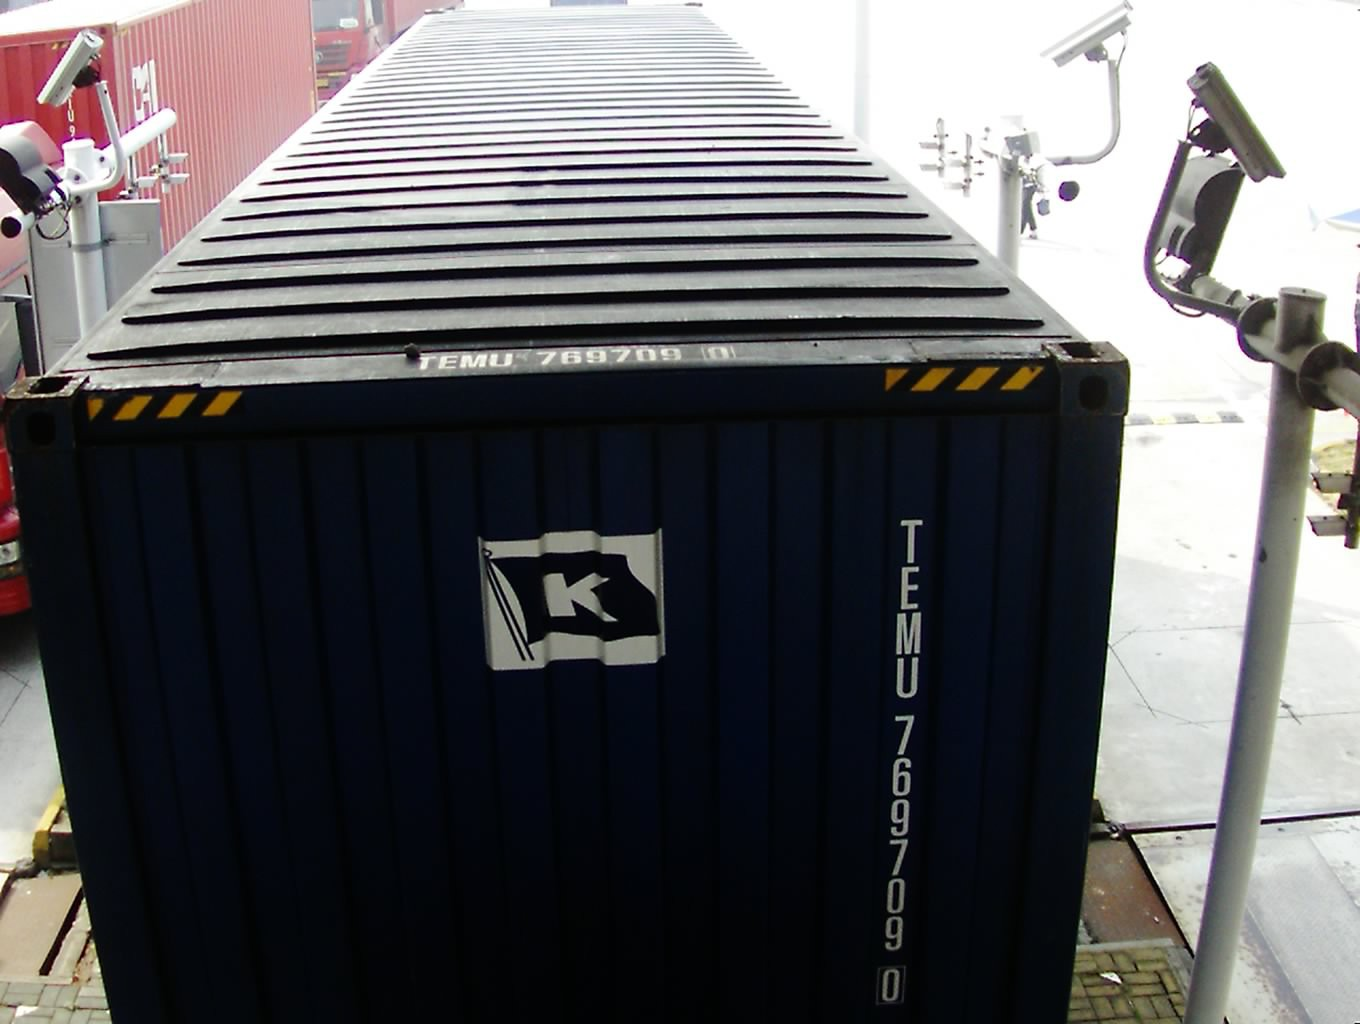words: (873, 504, 930, 1010)
